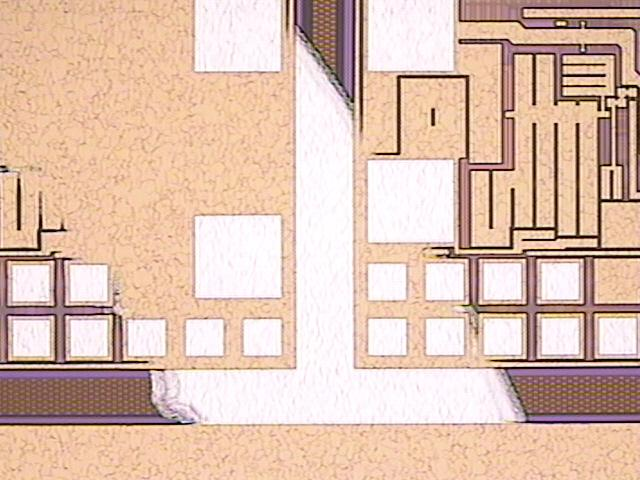BLOCK ETCH: (1, 1, 532, 426)
